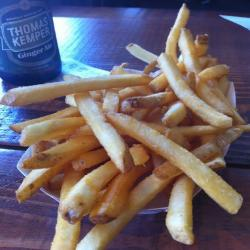fries: (47, 80, 224, 203)
